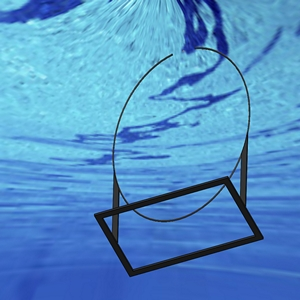circle: (91, 42, 262, 280)
